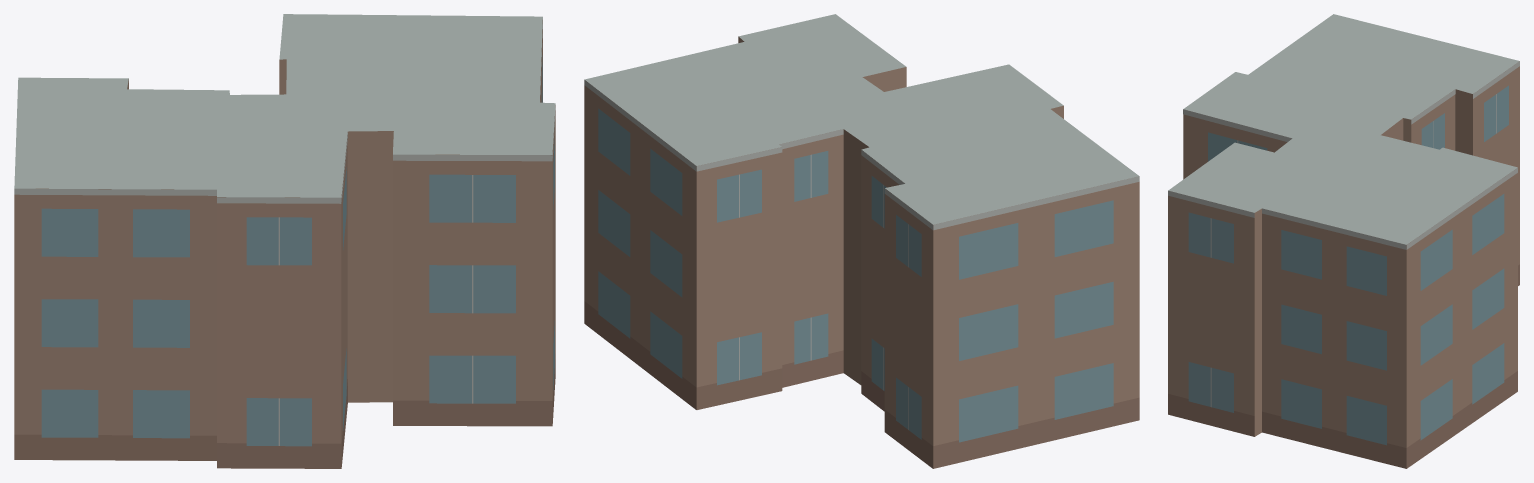
File: survey-upis-32491953.glb
3 renders of one model, left to right at view 1: azimuth 30°, elevation 25°; view 2: azimuth 150°, elevation 25°; view 3: azimuth 270°, elevation 25°, orthographic. The views are drawn at different scales.
Parts seen in each view (by area): view 1: survey-upis-32491953.tmp; view 2: survey-upis-32491953.tmp; view 3: survey-upis-32491953.tmp.
Boxes of the visible parts, x1=… form: survey-upis-32491953.tmp: x1=14, y1=14, x2=555, y2=468; survey-upis-32491953.tmp: x1=584, y1=14, x2=1139, y2=468; survey-upis-32491953.tmp: x1=1168, y1=14, x2=1519, y2=468.
Size of the model in its own units: 23.65 by 10.7 by 15.23.
